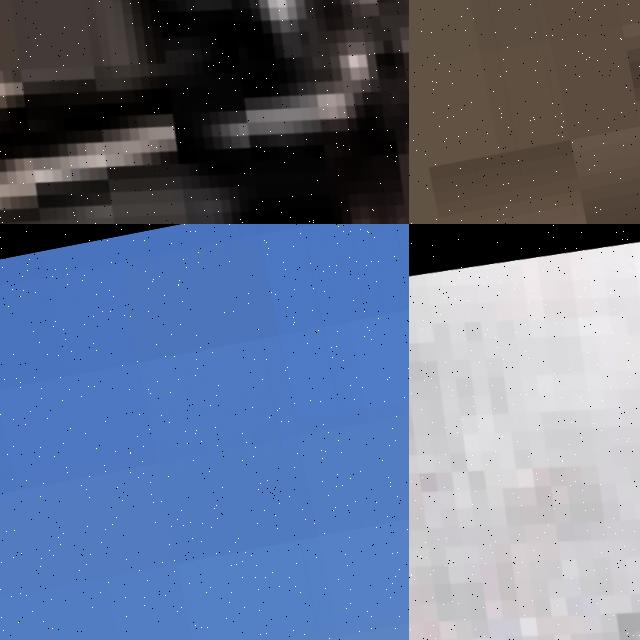drone: (409, 224, 640, 640), (0, 0, 409, 224)
